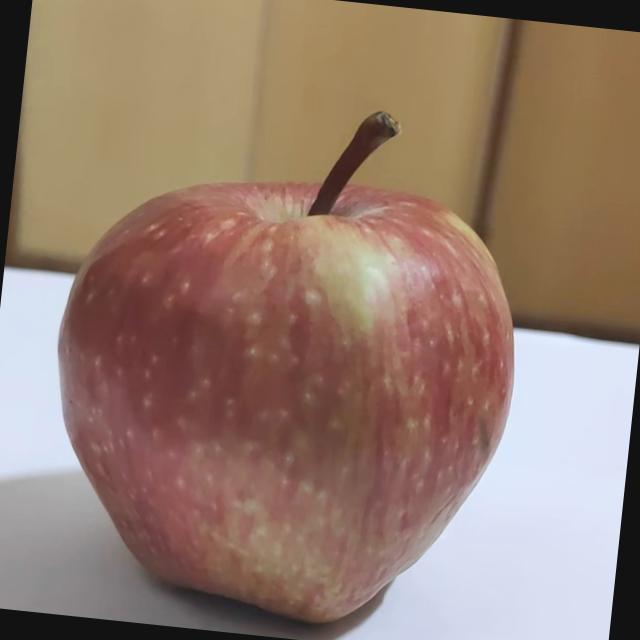apple: (31, 74, 541, 640)
